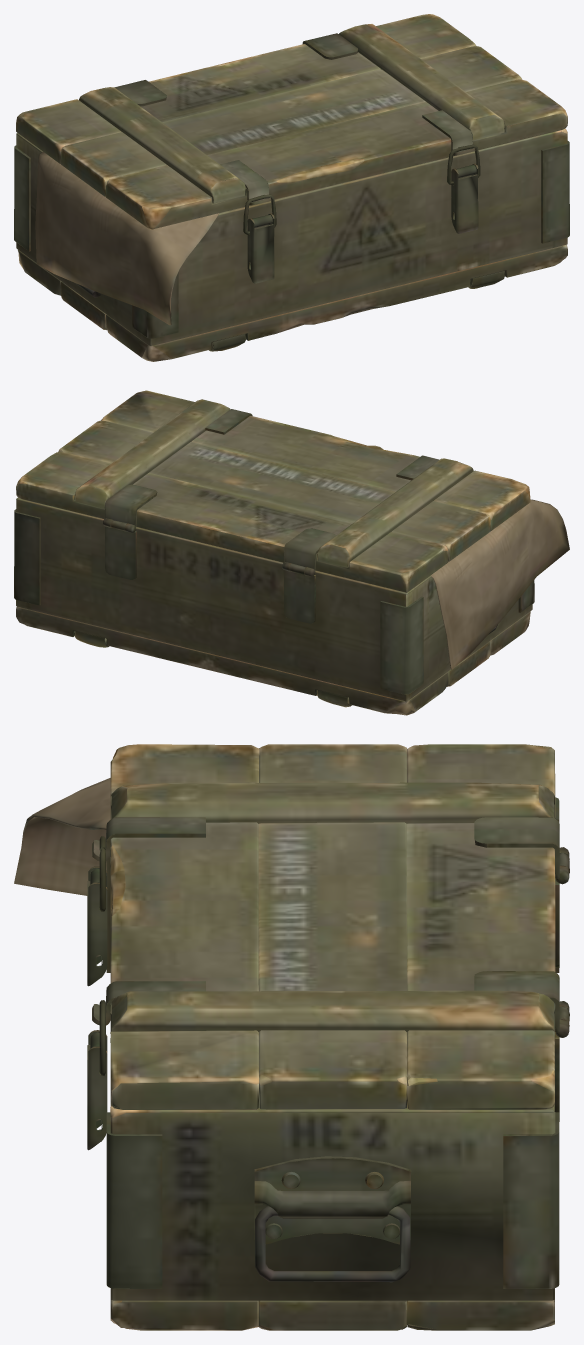
The model's file is caixa_militar.glb.
3 renders of one model, top to bottom at view 1: azimuth 30°, elevation 25°; view 2: azimuth 150°, elevation 25°; view 3: azimuth 270°, elevation 25°, orthographic. The views are drawn at different scales.
Parts seen in each view (by area): view 1: Malha; view 2: Malha; view 3: Malha.
Boxes of the visible parts, x1=… form: Malha: x1=14, y1=14, x2=569, y2=361; Malha: x1=14, y1=390, x2=569, y2=715; Malha: x1=14, y1=744, x2=569, y2=1330.
Size of the model in its own units: 1.3 by 0.4798 by 0.8578.
Materials: 1 (1 with a texture image).
